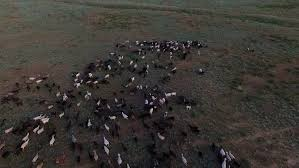sheep: (178, 153, 190, 165), (89, 148, 100, 161), (18, 140, 32, 149), (46, 135, 58, 145), (101, 145, 111, 156), (106, 113, 118, 122), (216, 147, 226, 157), (69, 132, 78, 143), (2, 127, 16, 134), (155, 131, 165, 140), (35, 126, 45, 135), (119, 112, 129, 121), (72, 68, 82, 77), (147, 106, 155, 116), (40, 73, 51, 80), (169, 90, 178, 98), (84, 89, 93, 97), (57, 111, 67, 118), (86, 70, 94, 78), (94, 99, 103, 106), (182, 106, 192, 112), (102, 73, 110, 80), (134, 84, 141, 92), (72, 82, 81, 88), (85, 118, 92, 125), (53, 91, 61, 97), (161, 112, 168, 118), (197, 68, 203, 72)
